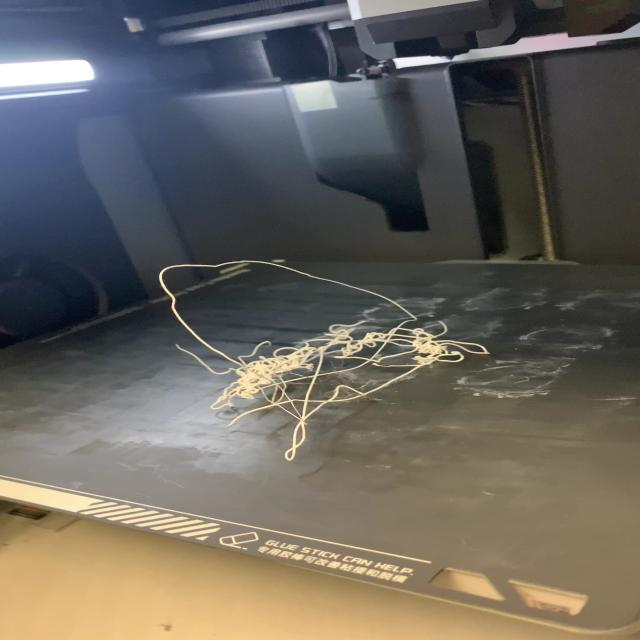spaghetti: (3, 258, 636, 634), (154, 257, 494, 463)
